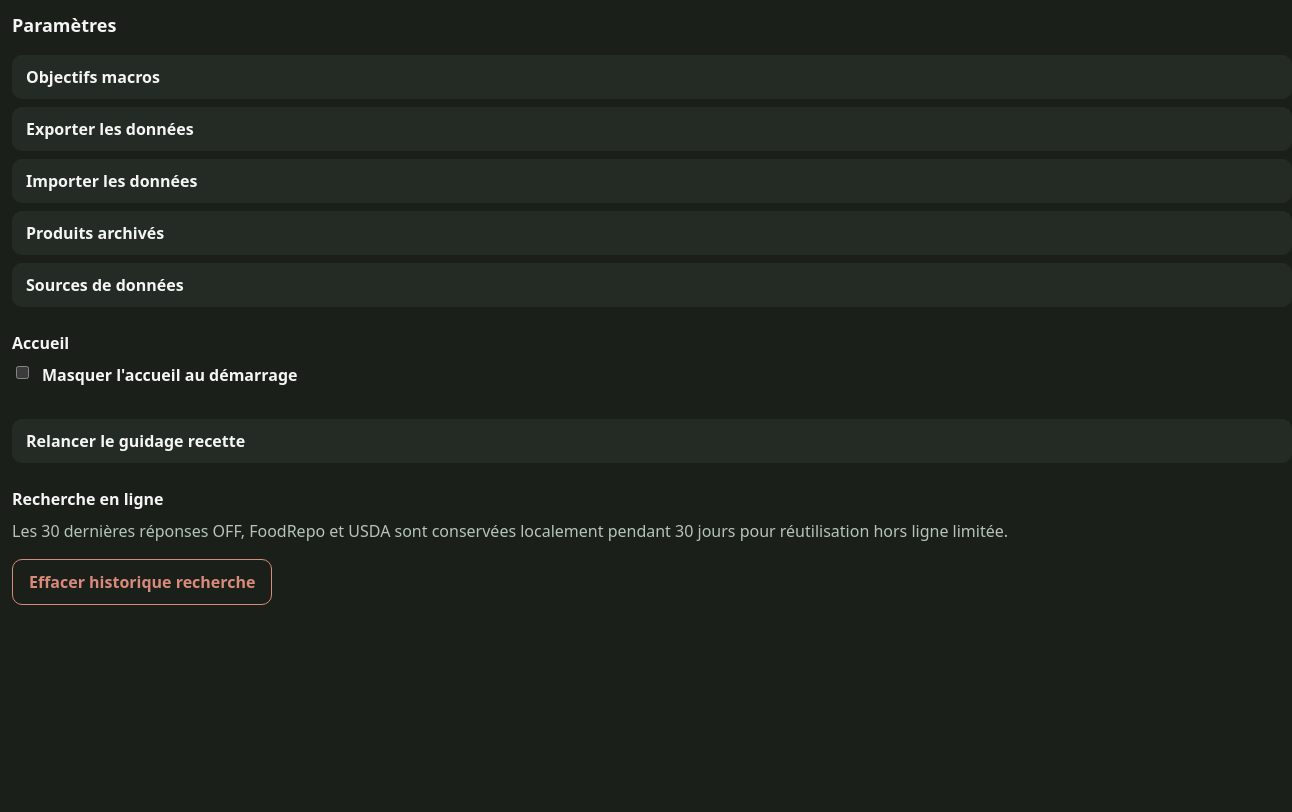
Test: SettingsPageComponent › shows a French error when saving the hide-home toggle fails
Click the checkbox labelled "Masquer l'accueil au démarrage".
click(22, 372)  # box [16,366,29,379]
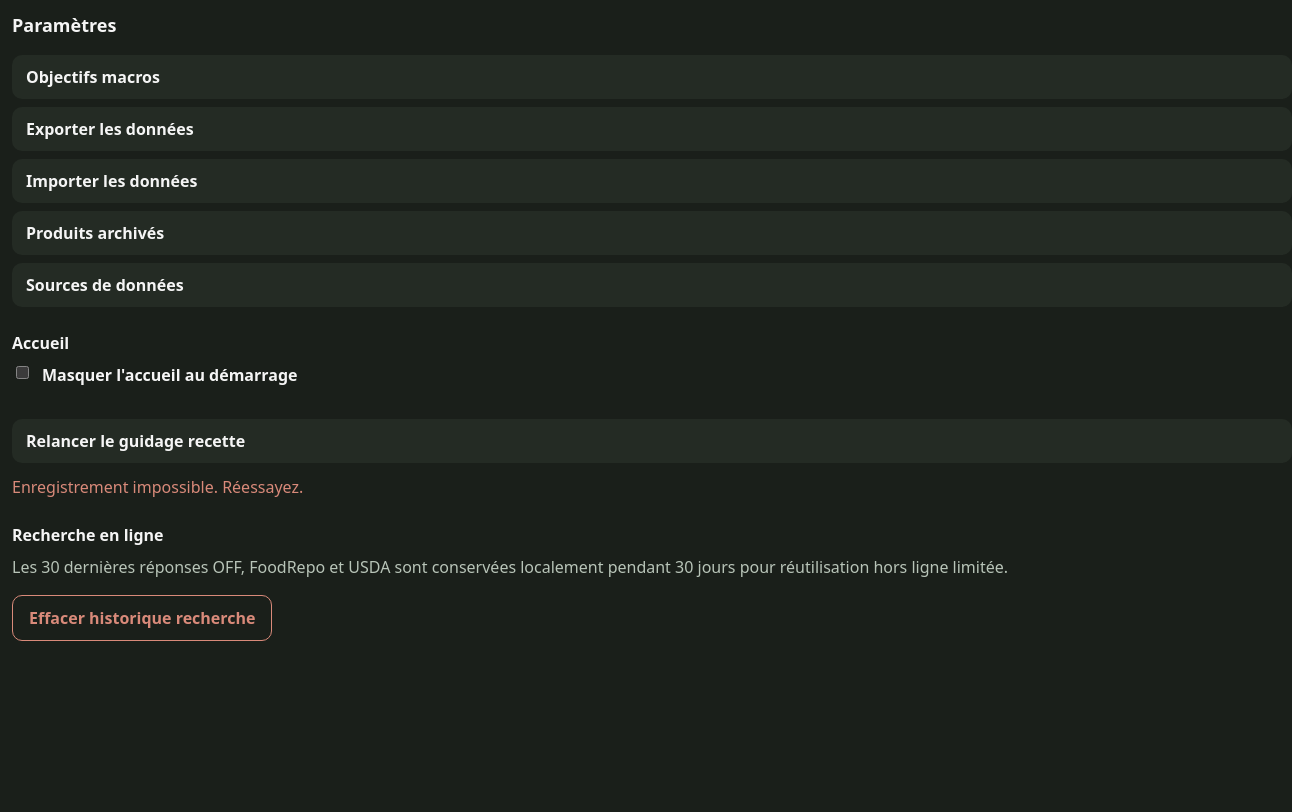
Now the text "Enregistrement impossible. Réessayez." is shown, box [12,476,303,498]
